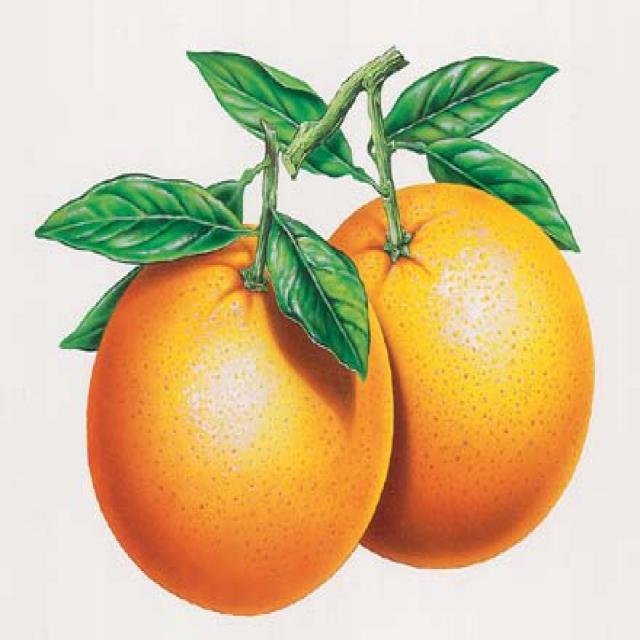orange: (86, 223, 394, 623), (326, 185, 593, 569)
